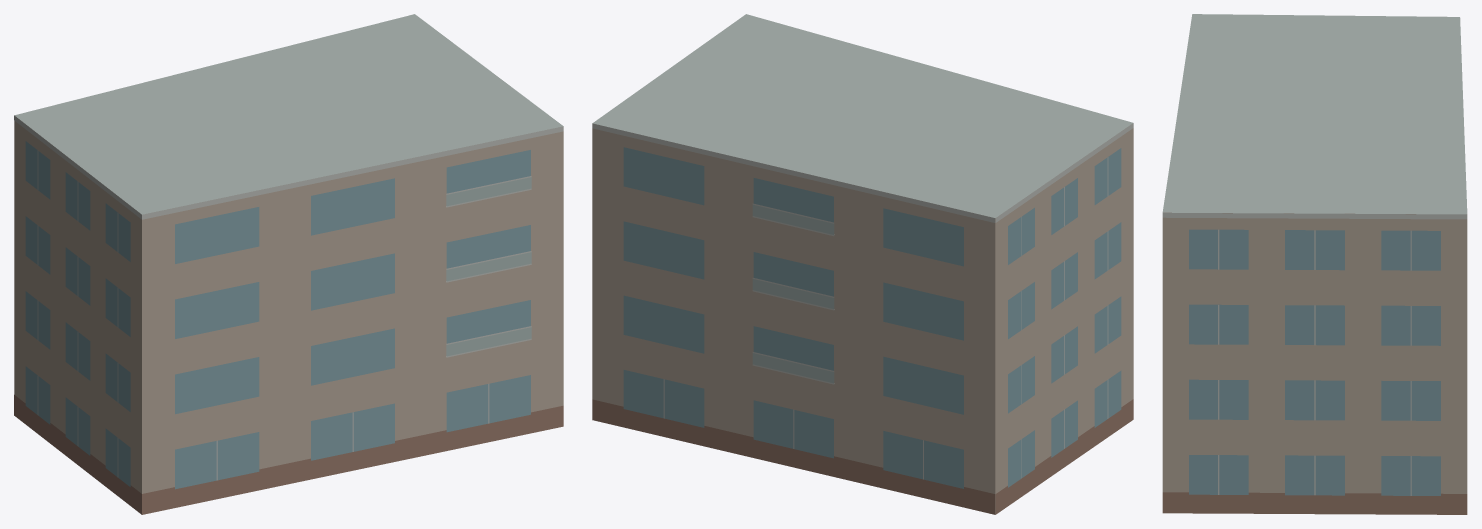
Rendered from survey-upis-32595887.glb.
The picture shows the model from 3 angles, left to right: view 1: azimuth 30°, elevation 25°; view 2: azimuth 150°, elevation 25°; view 3: azimuth 270°, elevation 25°; orthographic projection.
Visible parts, largest first — view 1: survey-upis-32595887.tmp; view 2: survey-upis-32595887.tmp; view 3: survey-upis-32595887.tmp.
Part boxes in pixels (x1=…): survey-upis-32595887.tmp: x1=14, y1=14, x2=563, y2=514; survey-upis-32595887.tmp: x1=592, y1=14, x2=1133, y2=514; survey-upis-32595887.tmp: x1=1162, y1=14, x2=1467, y2=514.
Size of the model in its own units: 20.75 by 14.5 by 13.34.
